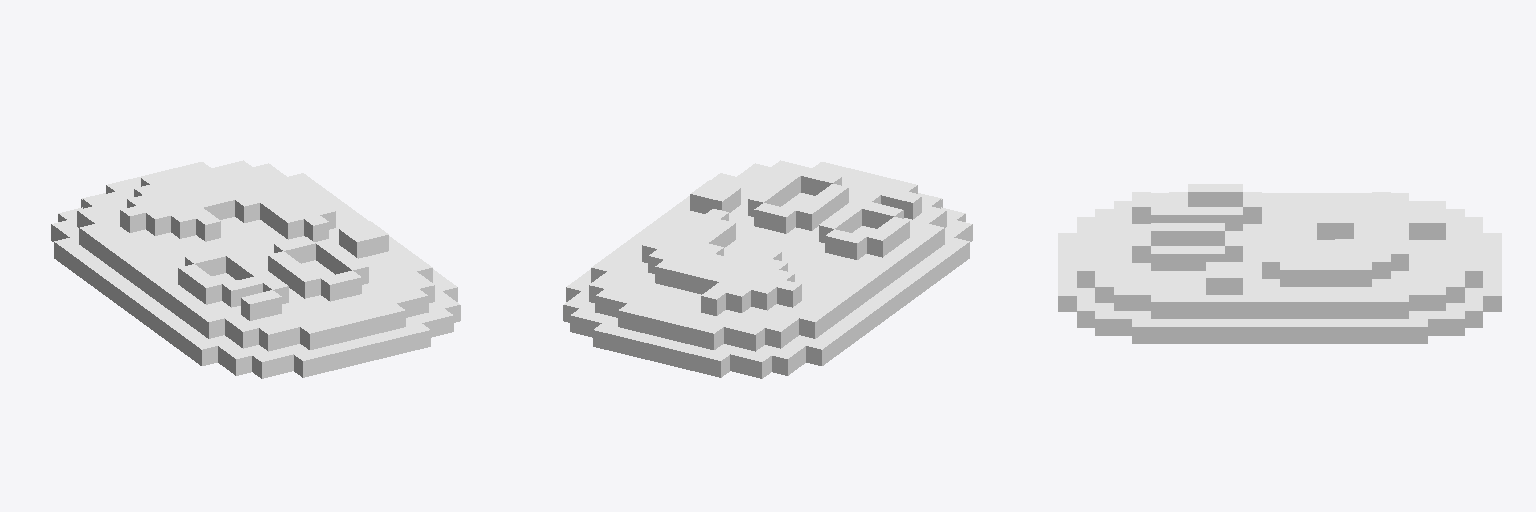
Rendered from turnLeft.obj.
The picture shows the model from 3 angles: view 1: azimuth 30°, elevation 25°; view 2: azimuth 150°, elevation 25°; view 3: azimuth 270°, elevation 25°; orthographic projection.
Parts seen in each view (by area): view 1: ObjObject.015; view 2: ObjObject.015; view 3: ObjObject.015.
Boxes of the visible parts, x1,y1,x2,y2 form: ObjObject.015: [51, 160, 460, 378]; ObjObject.015: [563, 160, 972, 378]; ObjObject.015: [1058, 184, 1501, 343].
Size of the model in its own units: 1.6 by 0.3 by 2.4.